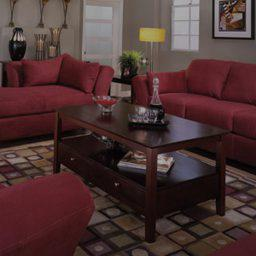Puerta: (83, 2, 119, 66)
